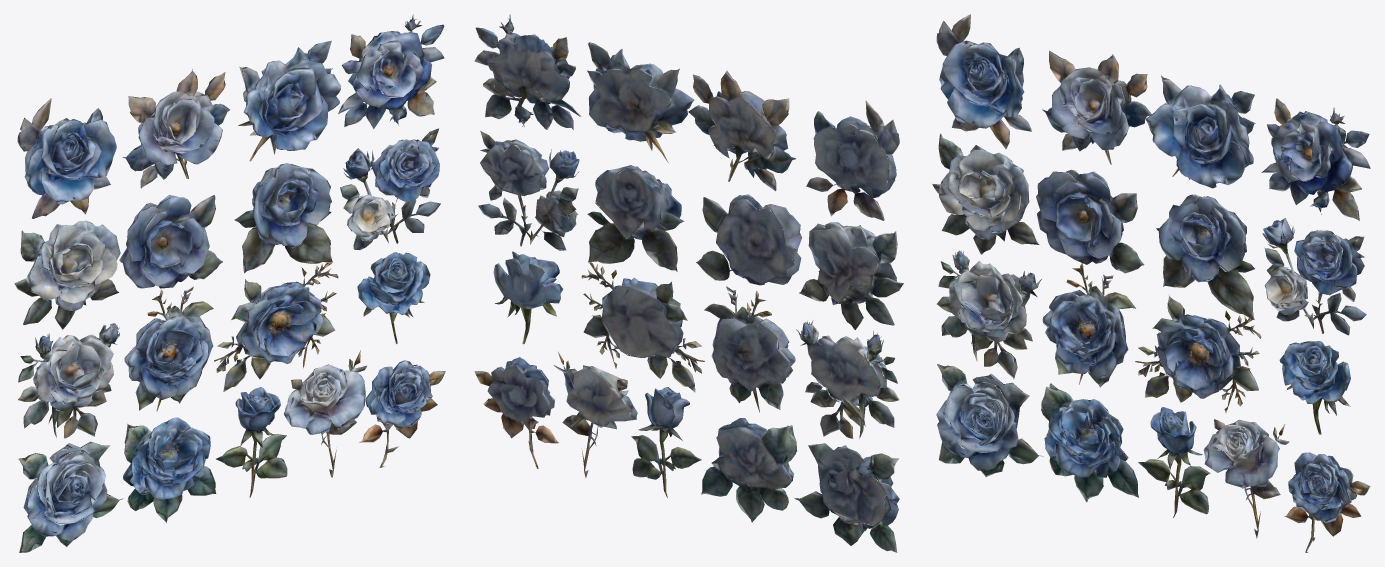
3 views of the same model, side by side, from view 1: azimuth 30°, elevation 25°; view 2: azimuth 150°, elevation 25°; view 3: azimuth 330°, elevation 25° (orthographic). The views are drawn at different scales.
Parts seen in each view (by area): view 1: Mesh 1, Mesh 13, Mesh 5, Mesh 15, Mesh 2, Mesh 6, Mesh 3, Mesh 4, Mesh 7, Mesh 16, Mesh 10, Mesh 8 (+5 smaller); view 2: Mesh 2, Mesh 6, Mesh 1, Mesh 15, Mesh 10, Mesh 4, Mesh 3, Mesh 13, Mesh 5, Mesh 16, Mesh 7, Mesh 8 (+5 smaller); view 3: Mesh 13, Mesh 6, Mesh 15, Mesh 2, Mesh 1, Mesh 10, Mesh 4, Mesh 5, Mesh 16, Mesh 3, Mesh 7, Mesh 8 (+5 smaller).
Part boxes in pixels (bbox=[...]): Mesh 1: bbox=[14, 220, 120, 329]; Mesh 13: bbox=[238, 40, 341, 161]; Mesh 5: bbox=[17, 98, 116, 218]; Mesh 15: bbox=[338, 14, 444, 128]; Mesh 2: bbox=[214, 262, 338, 391]; Mesh 6: bbox=[234, 163, 332, 273]; Mesh 3: bbox=[18, 323, 119, 438]; Mesh 4: bbox=[18, 441, 123, 552]; Mesh 7: bbox=[122, 69, 229, 188]; Mesh 16: bbox=[340, 128, 440, 249]; Mesh 10: bbox=[119, 195, 222, 288]; Mesh 8: bbox=[123, 417, 216, 522]; Mesh 2: bbox=[581, 262, 704, 392]; Mesh 6: bbox=[587, 165, 684, 271]; Mesh 1: bbox=[799, 222, 903, 329]; Mesh 15: bbox=[474, 14, 580, 129]; Mesh 10: bbox=[696, 194, 801, 285]; Mesh 4: bbox=[794, 443, 899, 552]; Mesh 3: bbox=[796, 320, 899, 438]; Mesh 13: bbox=[587, 42, 694, 162]; Mesh 5: bbox=[806, 100, 899, 220]; Mesh 16: bbox=[478, 130, 579, 250]; Mesh 7: bbox=[688, 70, 796, 191]; Mesh 8: bbox=[701, 418, 797, 522]; Mesh 13: bbox=[1146, 75, 1255, 188]; Mesh 6: bbox=[1156, 194, 1254, 319]; Mesh 15: bbox=[1261, 98, 1370, 220]; Mesh 2: bbox=[1135, 294, 1261, 413]; Mesh 1: bbox=[932, 133, 1039, 254]; Mesh 10: bbox=[1036, 169, 1144, 273]; Mesh 4: bbox=[936, 364, 1043, 477]; Mesh 5: bbox=[936, 14, 1031, 148]; Mesh 16: bbox=[1262, 218, 1366, 335]; Mesh 3: bbox=[937, 250, 1041, 379]; Mesh 7: bbox=[1042, 50, 1151, 164]; Mesh 8: bbox=[1041, 383, 1138, 502].
Size of the model in its own units: 1.89 by 1.9 by 0.1291.
17 materials, 17 textured.
